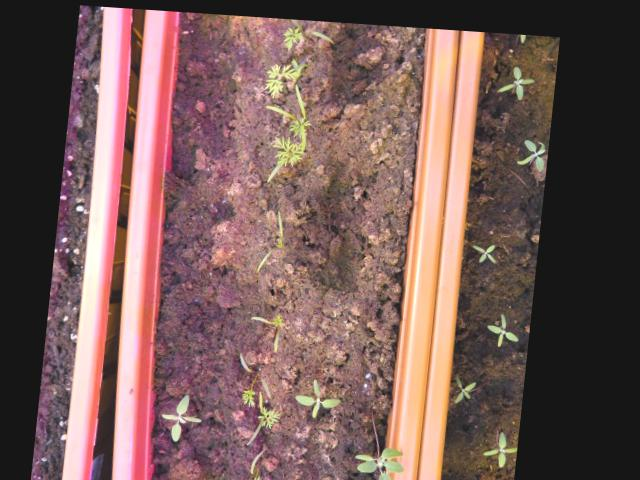weed: (160, 388, 212, 443), (297, 370, 352, 417), (486, 304, 529, 344), (493, 57, 538, 95), (513, 129, 550, 166), (453, 364, 486, 401), (469, 235, 505, 260), (499, 26, 542, 41)
